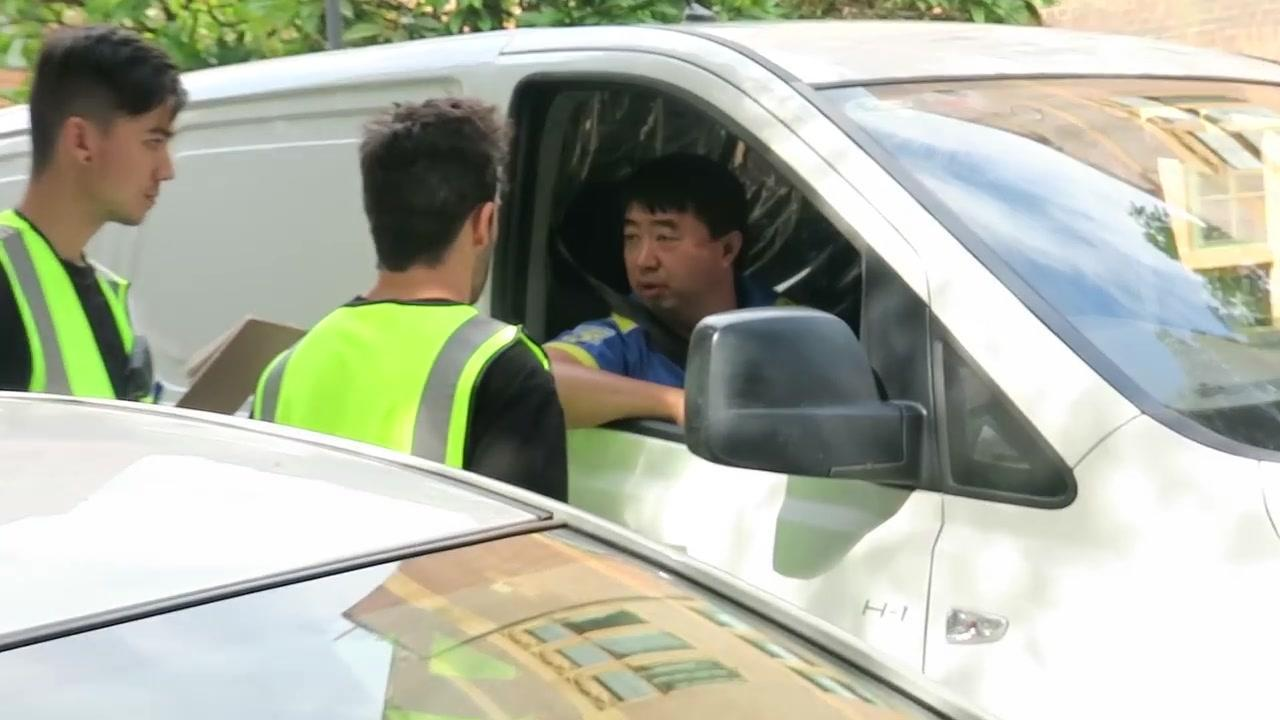vest: (254, 299, 554, 468), (0, 207, 158, 404)
